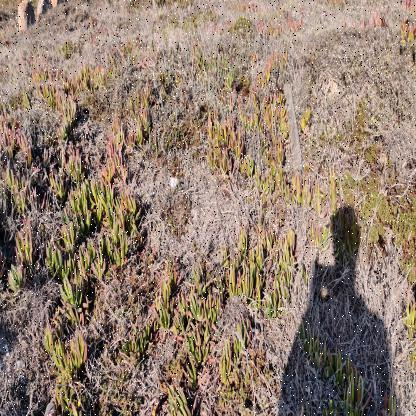glass: (168, 176, 186, 190)
